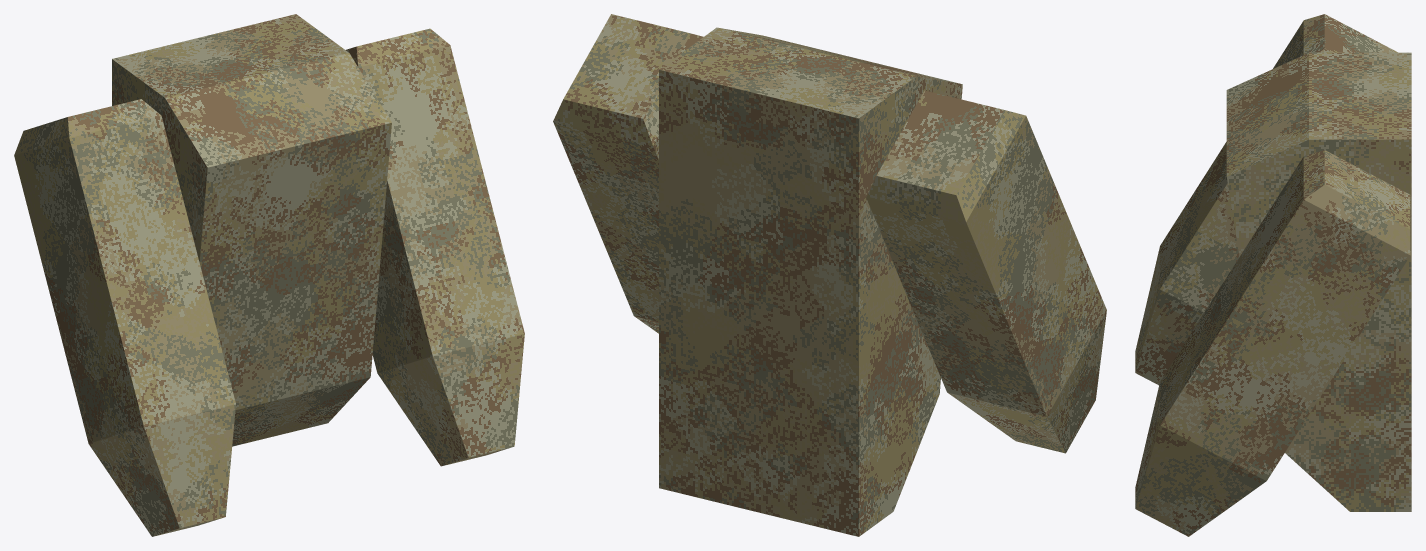
File: pack2.glb
3 renders of one model, left to right at view 1: azimuth 30°, elevation 25°; view 2: azimuth 150°, elevation 25°; view 3: azimuth 270°, elevation 25°, orthographic. The views are drawn at different scales.
Visible parts, largest first — view 1: pack2; view 2: pack2; view 3: pack2.
Part boxes in pixels (x1=…): pack2: x1=14, y1=14, x2=524, y2=536; pack2: x1=553, y1=14, x2=1106, y2=536; pack2: x1=1135, y1=14, x2=1411, y2=536.
Bounding box in the file's own units: 0.62 × 0.6 × 0.4035.
1 material, 1 textured.
